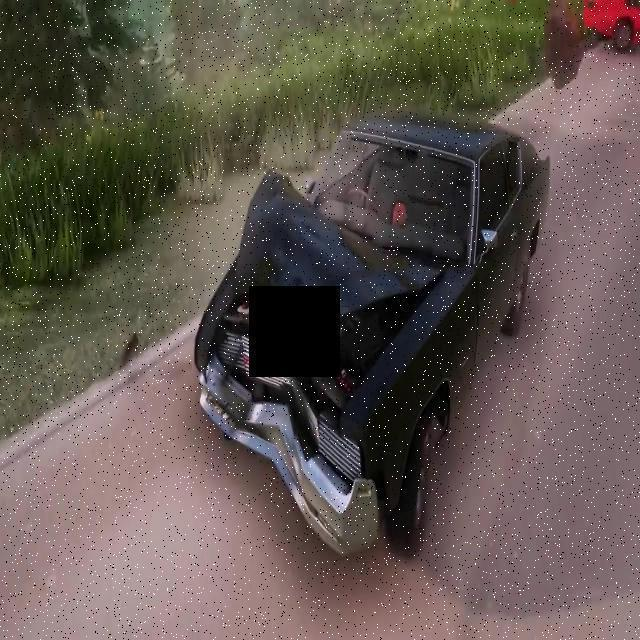accident: (189, 103, 557, 562)
